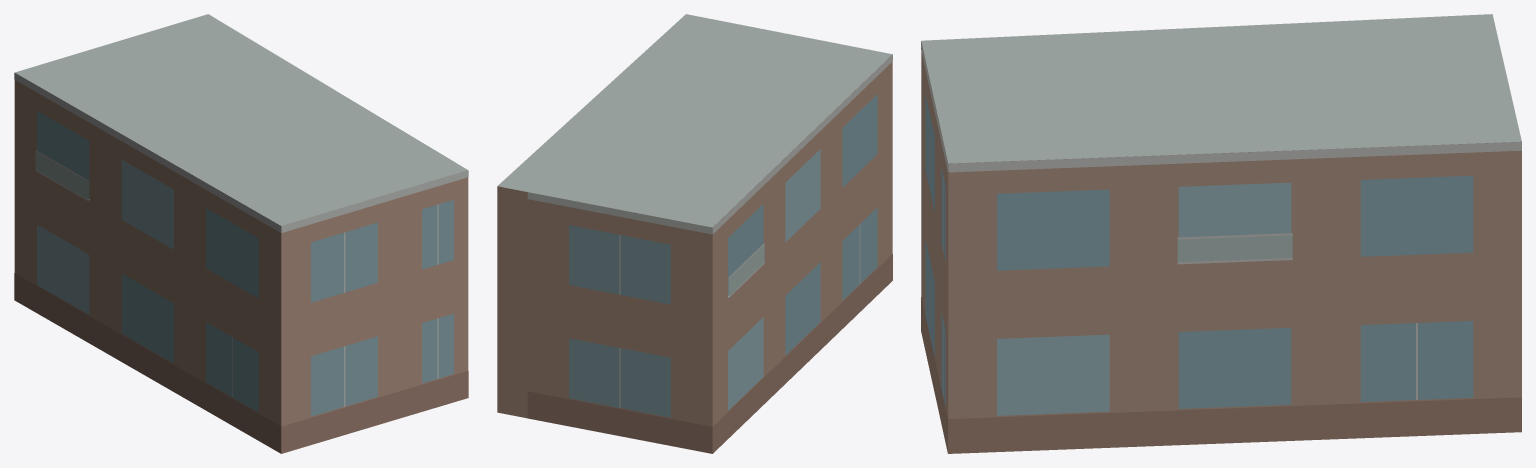
File: survey-upis-32725790.glb
3 renders of one model, left to right at view 1: azimuth 30°, elevation 25°; view 2: azimuth 150°, elevation 25°; view 3: azimuth 270°, elevation 25°, orthographic. The views are drawn at different scales.
Parts seen in each view (by area): view 1: survey-upis-32725790.tmp; view 2: survey-upis-32725790.tmp; view 3: survey-upis-32725790.tmp.
Boxes of the visible parts, <box> form: survey-upis-32725790.tmp: <box>14,14,468,453</box>; survey-upis-32725790.tmp: <box>497,14,892,453</box>; survey-upis-32725790.tmp: <box>921,14,1521,453</box>.
Size of the model in its own units: 8.73 by 7.9 by 14.82.
